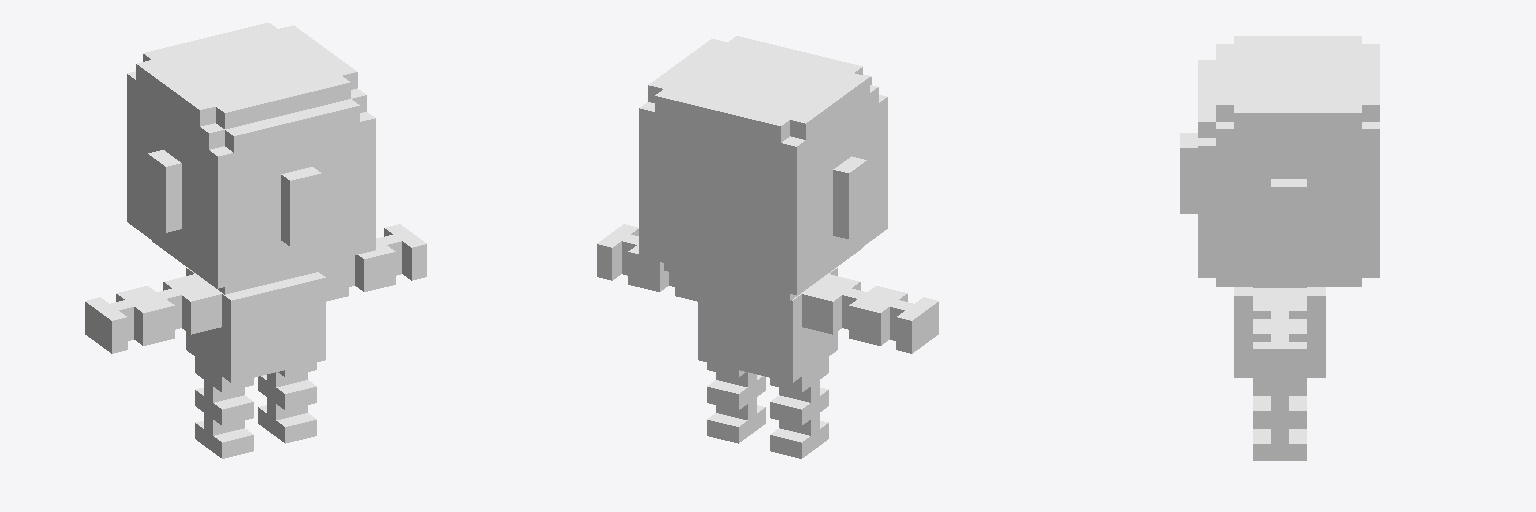
The model's file is Prechoice.obj.
The picture shows the model from 3 angles: view 1: azimuth 30°, elevation 25°; view 2: azimuth 150°, elevation 25°; view 3: azimuth 270°, elevation 25°; orthographic projection.
Parts seen in each view (by area): view 1: object 1; view 2: object 1; view 3: object 1.
Part boxes in pixels (x1,y1,x2,y2): object 1: (85,23,426,458); object 1: (597,36,938,458); object 1: (1180,36,1379,460).
Size of the model in its own units: 2 by 2.2 by 1.1.